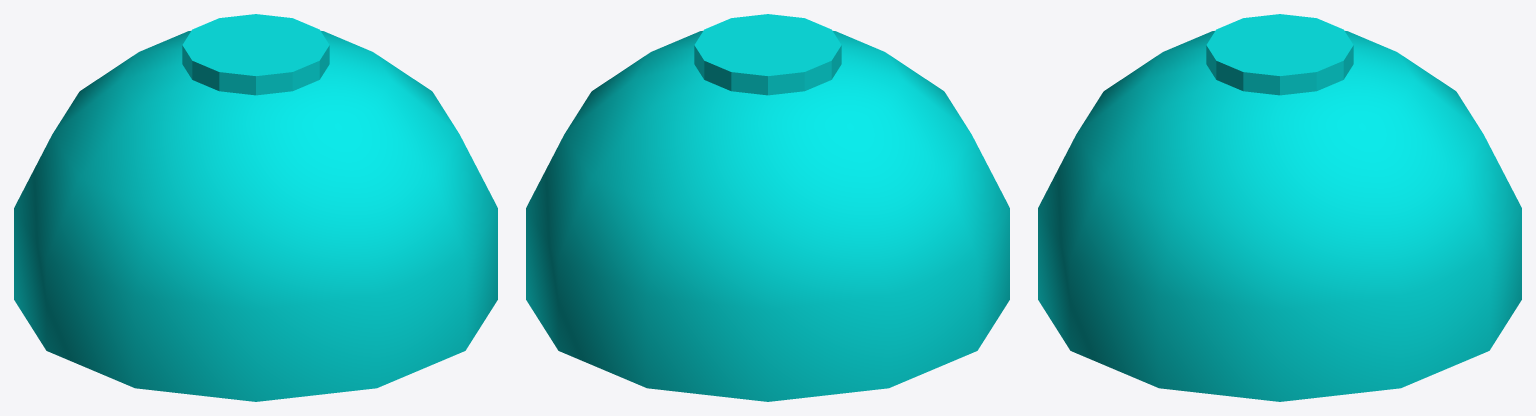
The model's file is displayGlass.fbx.
3 renders of one model, left to right at view 1: azimuth 30°, elevation 25°; view 2: azimuth 150°, elevation 25°; view 3: azimuth 270°, elevation 25°, orthographic.
Visible parts, largest first — view 1: cakeGlass4; view 2: cakeGlass4; view 3: cakeGlass4.
Part boxes in pixels (left/top/right/bottom): cakeGlass4: left=14, top=14, right=497, bottom=401; cakeGlass4: left=526, top=14, right=1009, bottom=401; cakeGlass4: left=1038, top=14, right=1521, bottom=401.
Size of the model in its own units: 61.26 by 35.57 by 61.26.
